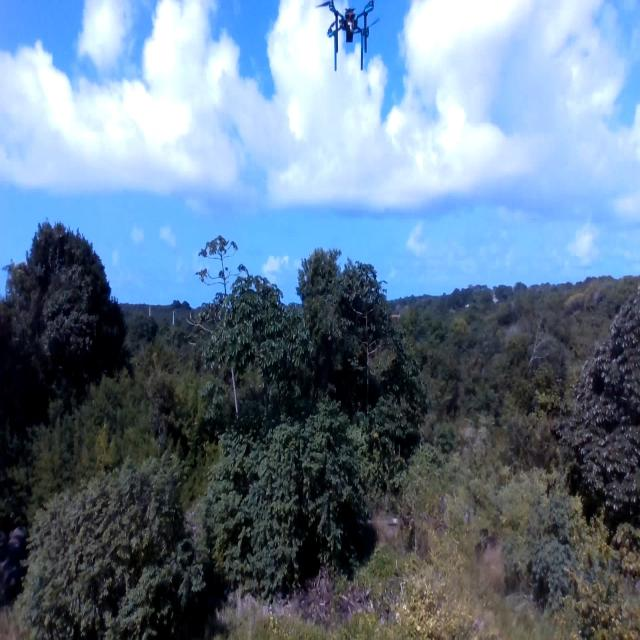-uav-: (314, 0, 384, 79)
